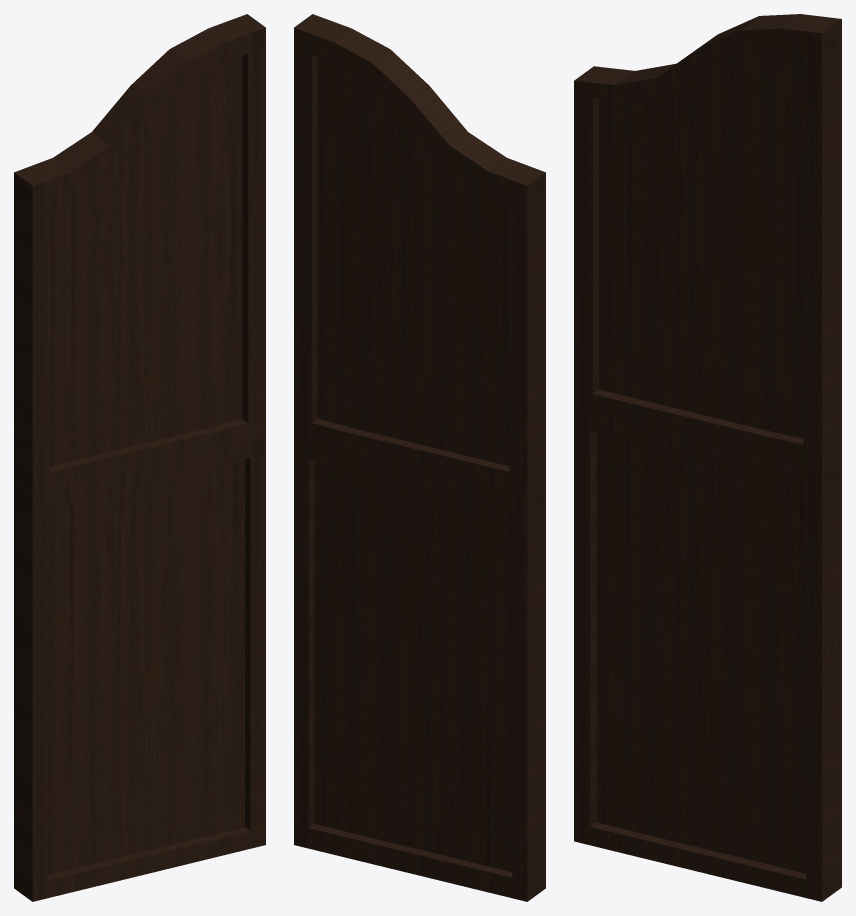
The model's file is SB_Bar_Panel_1.fbx.
The picture shows the model from 3 angles, left to right: view 1: azimuth 30°, elevation 25°; view 2: azimuth 150°, elevation 25°; view 3: azimuth 330°, elevation 25°; orthographic projection. The views are drawn at different scales.
Visible parts, largest first — view 1: Cube.008; view 2: Cube.008; view 3: Cube.008.
Part boxes in pixels (x1,y1,x2,y2): Cube.008: (14,14,265,901); Cube.008: (294,14,545,901); Cube.008: (574,14,841,901).
Bounding box in the file's own units: 188 × 630 × 25.94.
